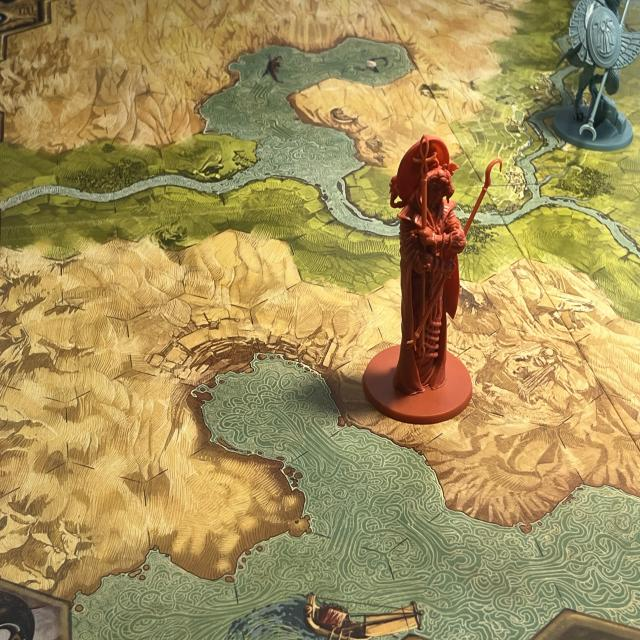amon: (366, 131, 502, 423)
isis: (547, 2, 640, 174)
